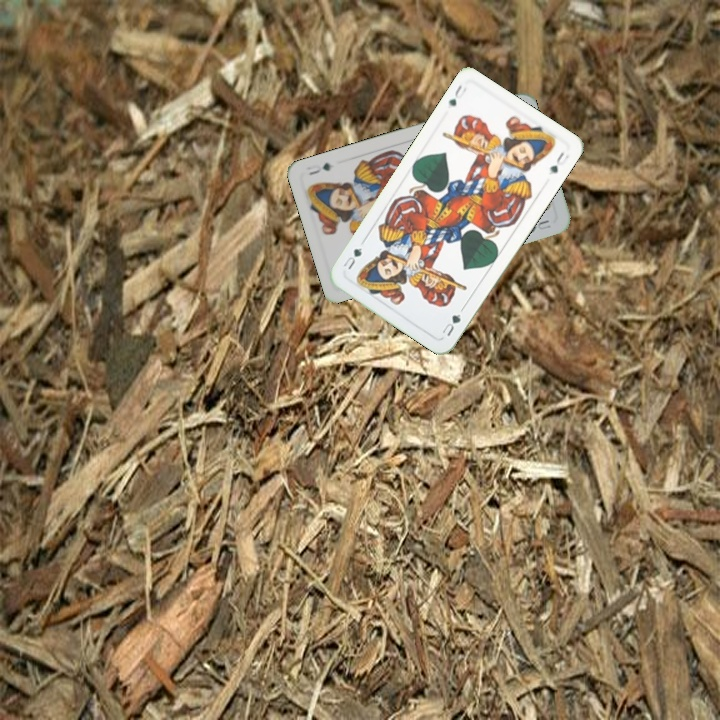GU: (438, 310, 463, 339), (444, 81, 469, 109)
